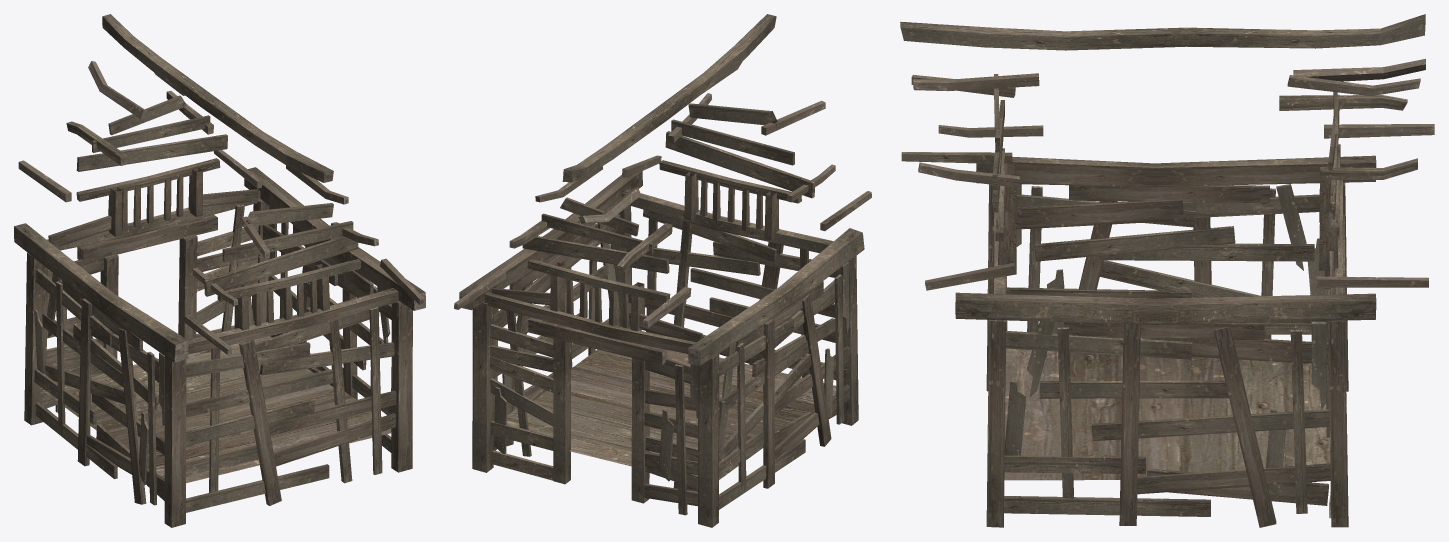
Rendered from bg_eud_sahill_warehouse01d_sm_ysi.FBX.
3 views of the same model, side by side, from view 1: azimuth 30°, elevation 25°; view 2: azimuth 150°, elevation 25°; view 3: azimuth 270°, elevation 25° (orthographic). The views are drawn at different scales.
Visible parts, largest first — view 1: bg_eud_sahill_warehouse01d_sm_ysi; view 2: bg_eud_sahill_warehouse01d_sm_ysi; view 3: bg_eud_sahill_warehouse01d_sm_ysi.
Part boxes in pixels (left/top/right/bottom): bg_eud_sahill_warehouse01d_sm_ysi: left=14, top=14, right=425, bottom=527; bg_eud_sahill_warehouse01d_sm_ysi: left=454, top=14, right=871, bottom=527; bg_eud_sahill_warehouse01d_sm_ysi: left=900, top=14, right=1434, bottom=527.
Size of the model in its own units: 404 by 563 by 621.
